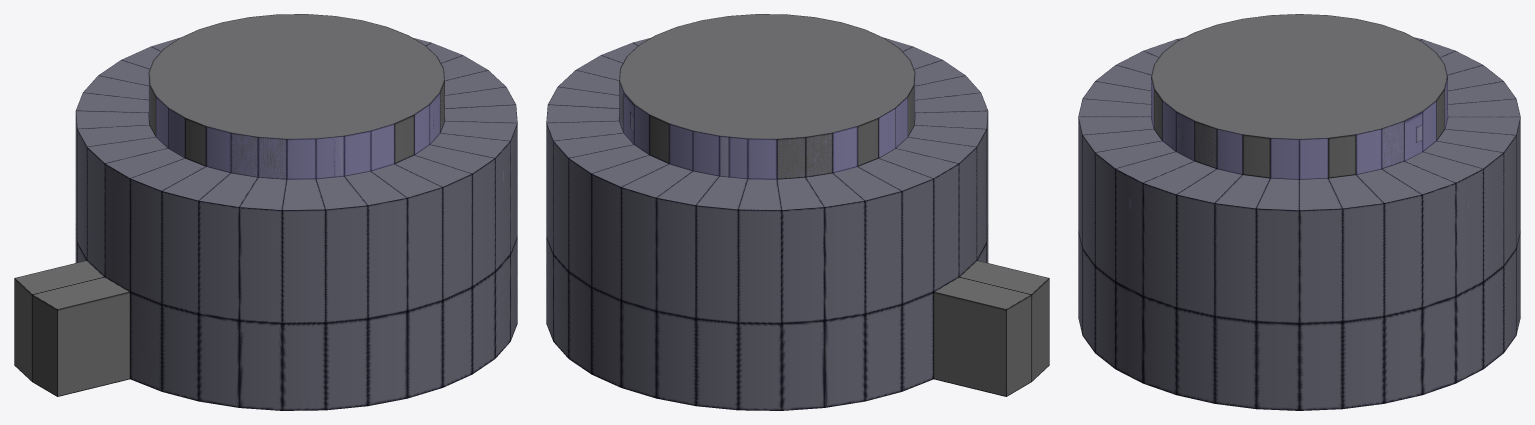
File: WaterBarrel.fbx
3 renders of one model, left to right at view 1: azimuth 30°, elevation 25°; view 2: azimuth 150°, elevation 25°; view 3: azimuth 270°, elevation 25°, orthographic.
Visible parts, largest first — view 1: WaterBarrel; view 2: WaterBarrel; view 3: WaterBarrel.
Part boxes in pixels (x1,y1,x2,y2): WaterBarrel: (14, 14, 517, 410); WaterBarrel: (546, 14, 1049, 410); WaterBarrel: (1078, 14, 1520, 410).
Size of the model in its own units: 238 by 120 by 200.
